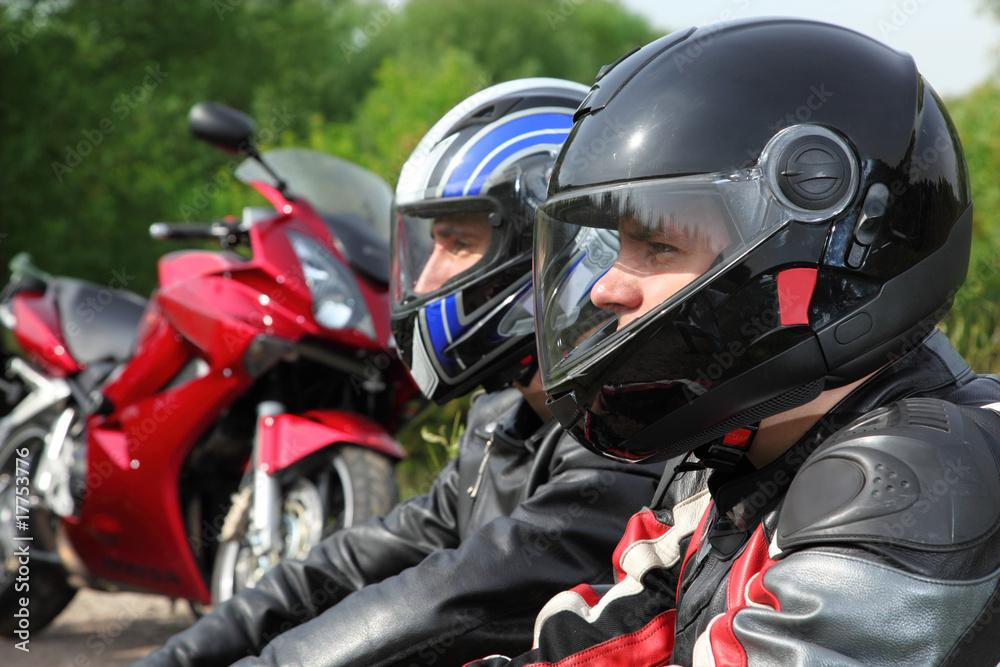helmet: (530, 12, 975, 476), (387, 73, 706, 411)
